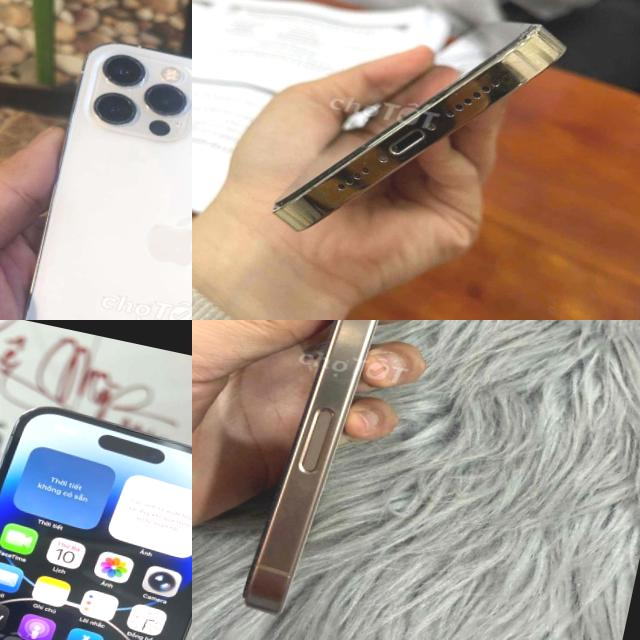gen_12_13: (263, 0, 575, 283), (4, 31, 192, 320)
gen_14: (0, 389, 192, 640)
gen_16: (243, 320, 376, 613)
